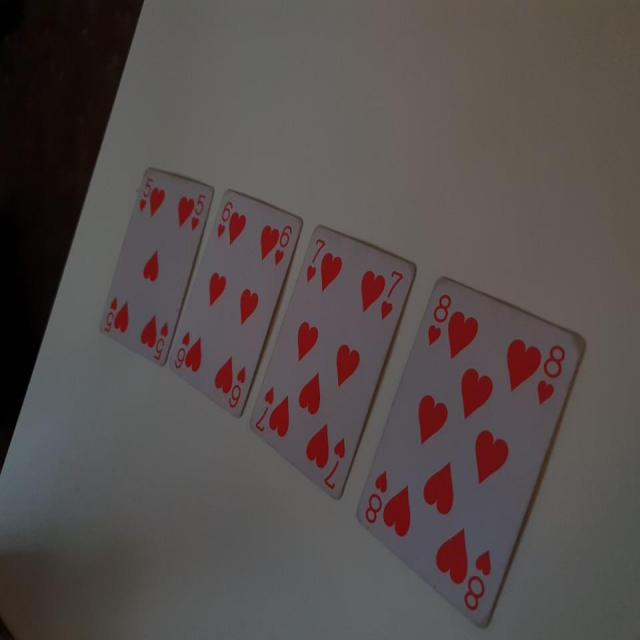5 Hearts: (98, 164, 220, 370)
6 Hearts: (165, 192, 305, 428)
7 Hearts: (243, 219, 416, 504)
8 Hearts: (362, 270, 588, 633)
